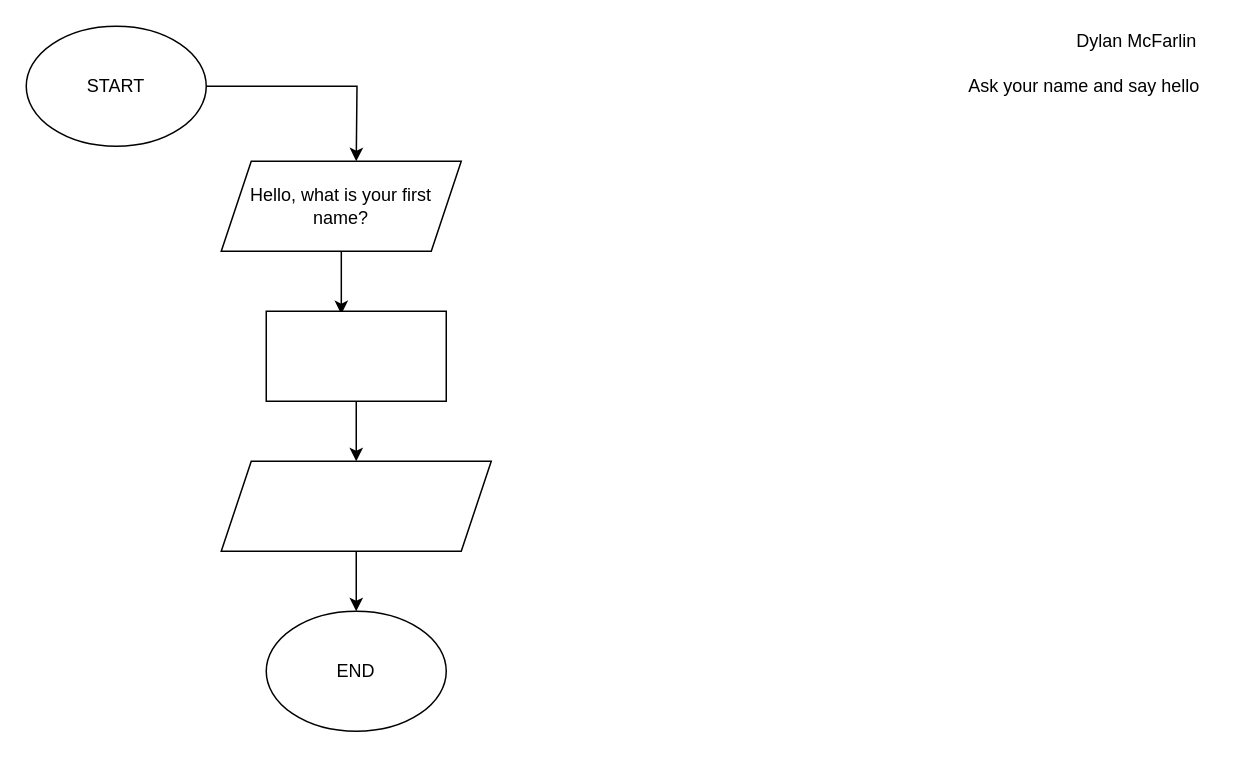
The diagram is 1238 pixels wide and 758 high, and some of its shapes have lost their labels. Here are the shapes that lost their labels. From the top down, the centre of each, then its label:
point 355,355: Save name entered
point 355,505: Hello (name entered)
